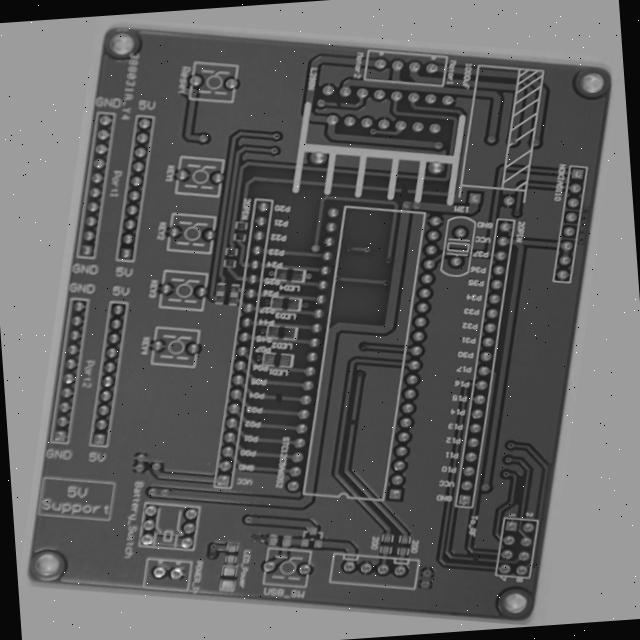open_circuit: (282, 404, 297, 419), (376, 419, 389, 432), (381, 158, 396, 168), (555, 550, 571, 559), (283, 75, 295, 82)
